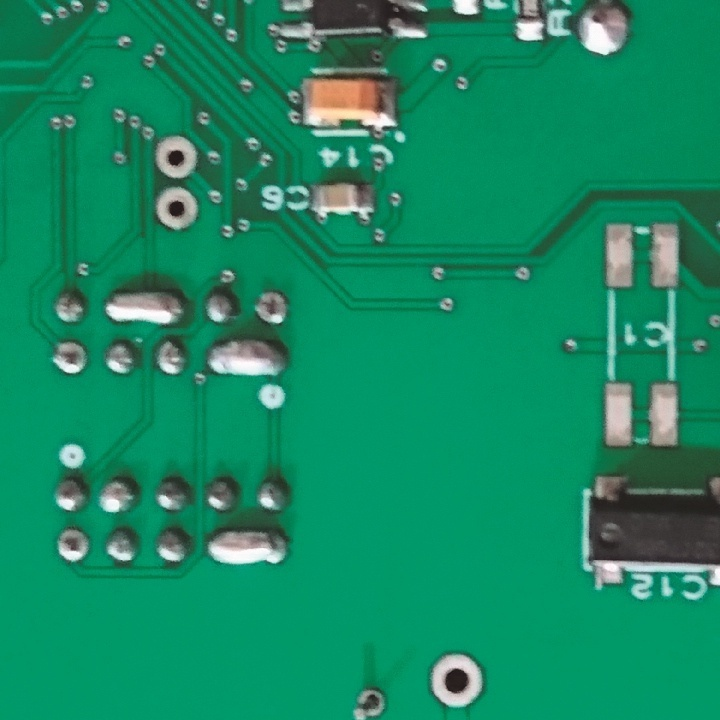F: (427, 648, 487, 712), (151, 132, 207, 183), (151, 183, 205, 233), (47, 335, 91, 380), (253, 286, 295, 332), (49, 523, 95, 565), (351, 684, 391, 720)
P: (206, 526, 288, 568), (102, 288, 185, 329), (204, 339, 290, 378)
